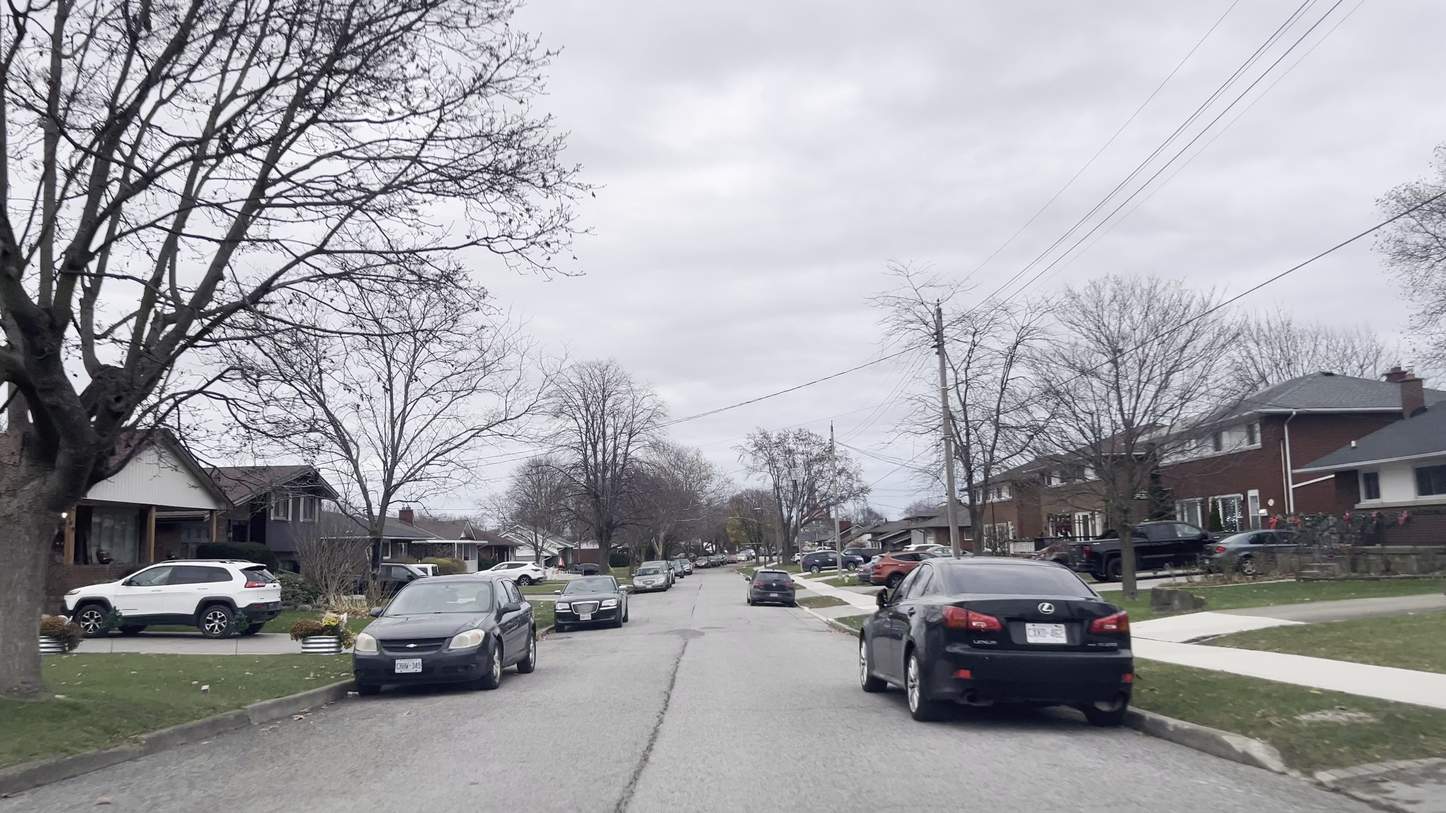cracks: (617, 654, 664, 812)
